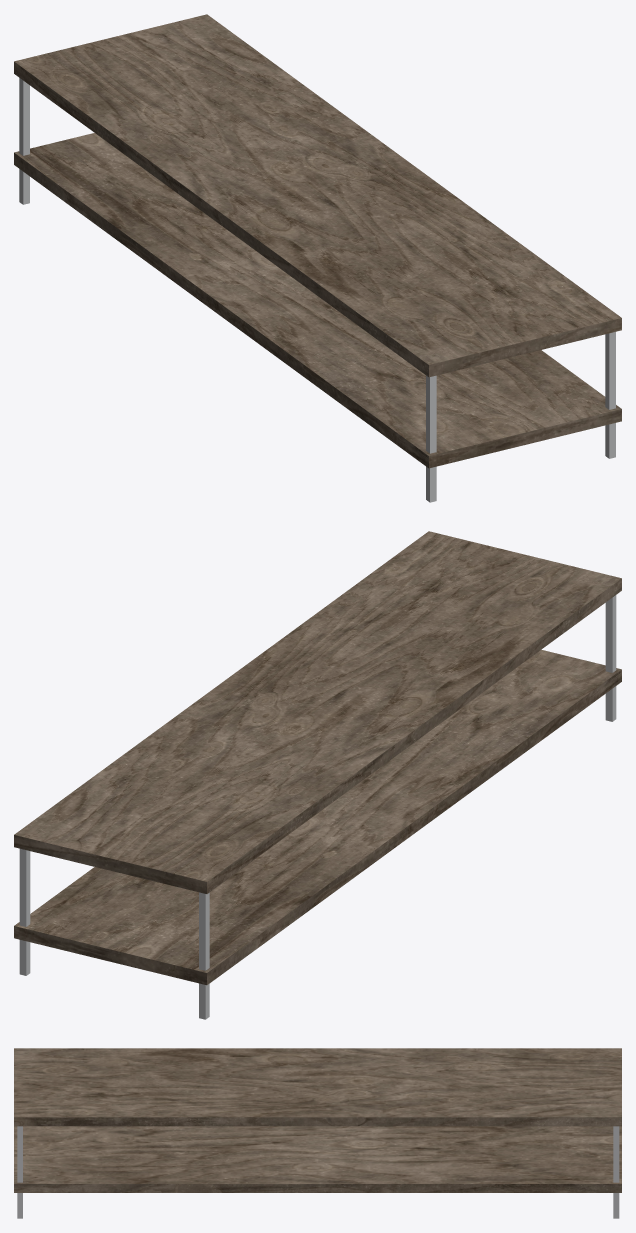
The picture shows the model from 3 angles, top to bottom: view 1: azimuth 30°, elevation 25°; view 2: azimuth 150°, elevation 25°; view 3: azimuth 270°, elevation 25°; orthographic projection. The views are drawn at different scales.
Parts seen in each view (by area): view 1: table_geo; view 2: table_geo; view 3: table_geo.
Part boxes in pixels (x1,y1,x2,y2): table_geo: [14, 14, 621, 502]; table_geo: [14, 531, 621, 1019]; table_geo: [14, 1048, 621, 1218].
Bounding box in the file's own units: 1.19 × 0.8216 × 4.41.
Materials: 1 (1 with a texture image).
